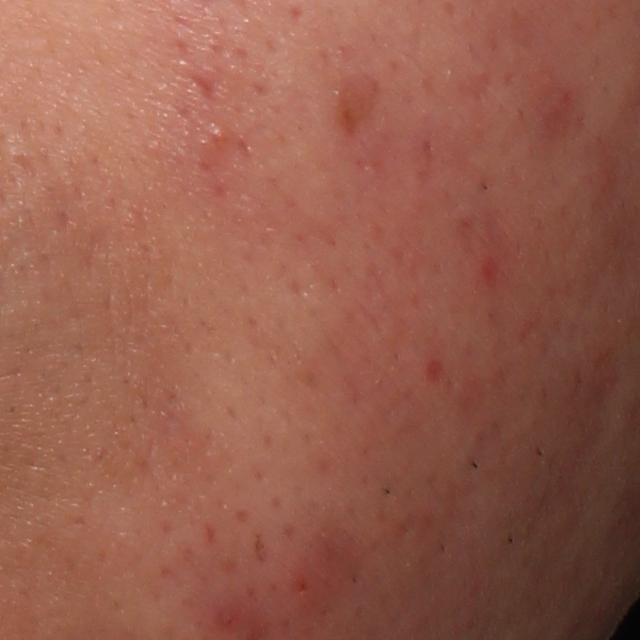atrophic_scar: (186, 72, 224, 106)
comedo: (206, 122, 224, 141)
